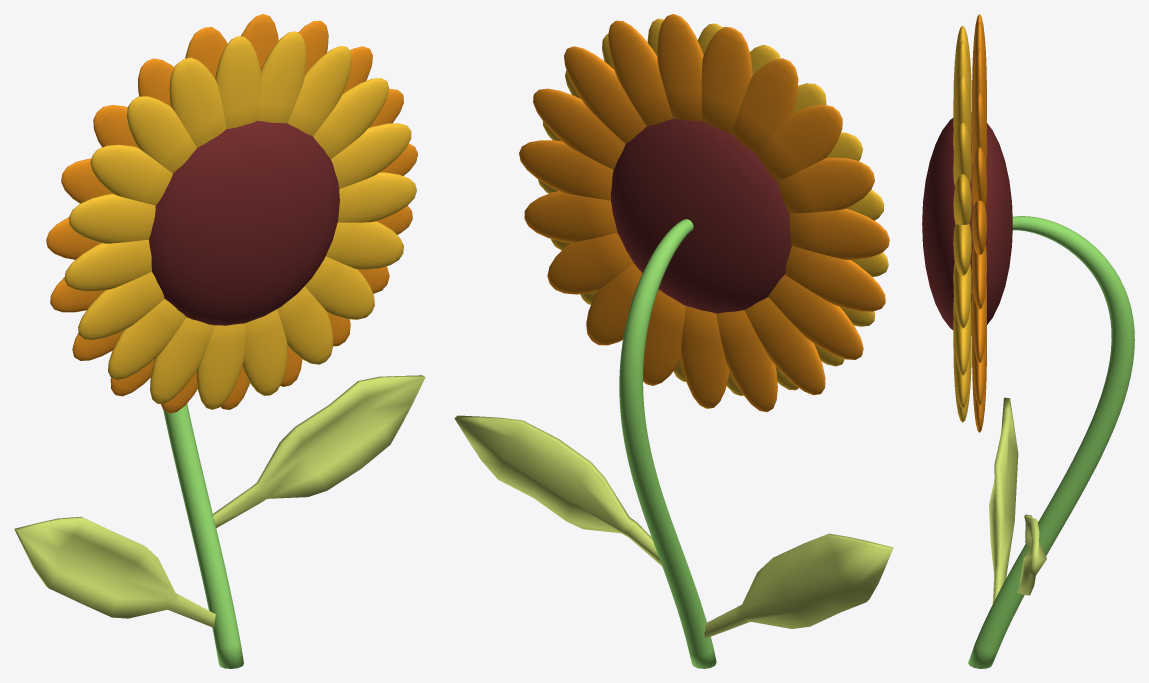
File: SunFlower_Harvested.fbx
3 renders of one model, left to right at view 1: azimuth 30°, elevation 25°; view 2: azimuth 150°, elevation 25°; view 3: azimuth 270°, elevation 25°, orthographic. The views are drawn at different scales.
Visible parts, largest first — view 1: Sunflower_United.001; view 2: Sunflower_United.001; view 3: Sunflower_United.001.
Part boxes in pixels (<box>): Sunflower_United.001: <box>14,14,425,668</box>; Sunflower_United.001: <box>454,14,893,668</box>; Sunflower_United.001: <box>922,14,1134,668</box>.
Size of the model in its own units: 37.86 by 55.13 by 16.9.
